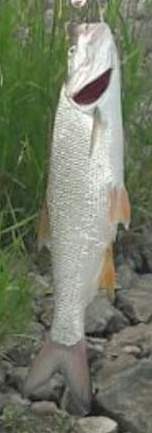Aspius aspius: (20, 20, 132, 413)
